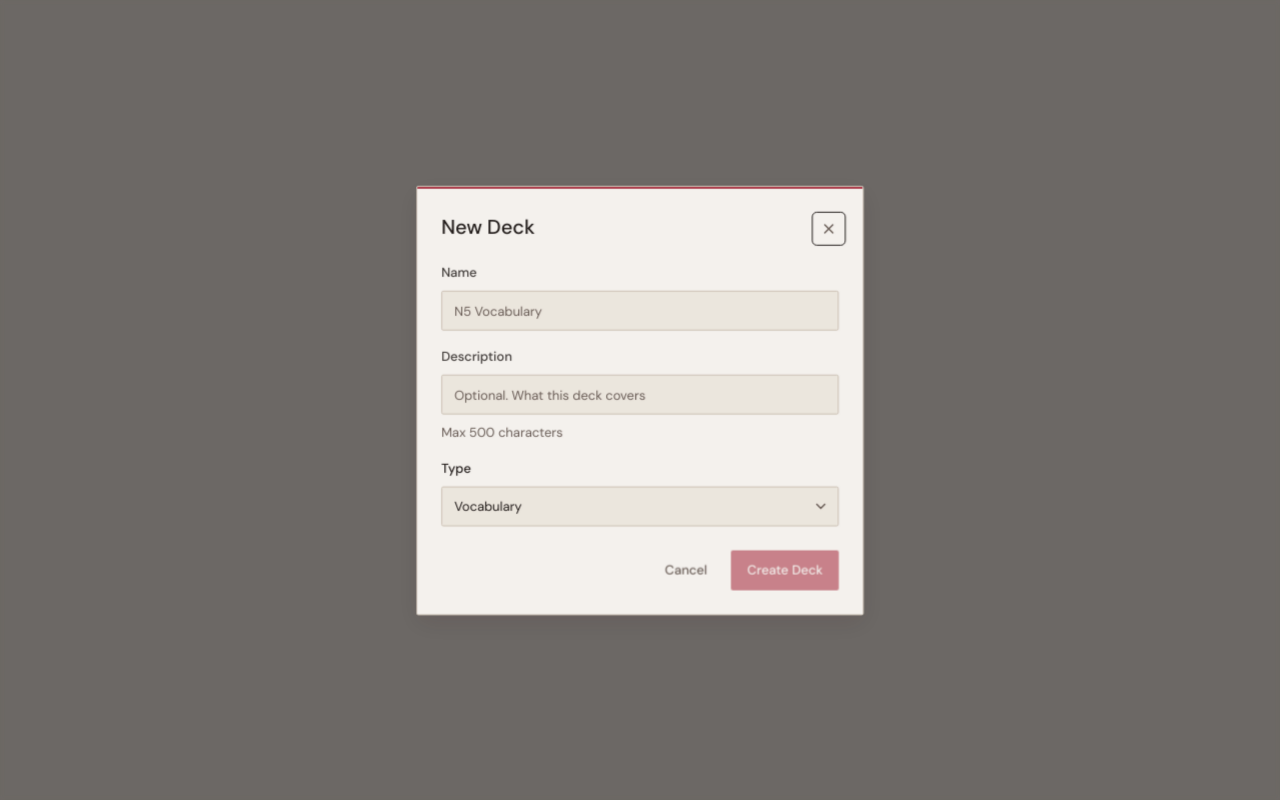
Test case: createDeckDialog › submit › renders a form-level alert when the action rejects
Step 1. Type "Whatever" into the field labelled "Name" → (640, 311), box [441, 291, 839, 331]
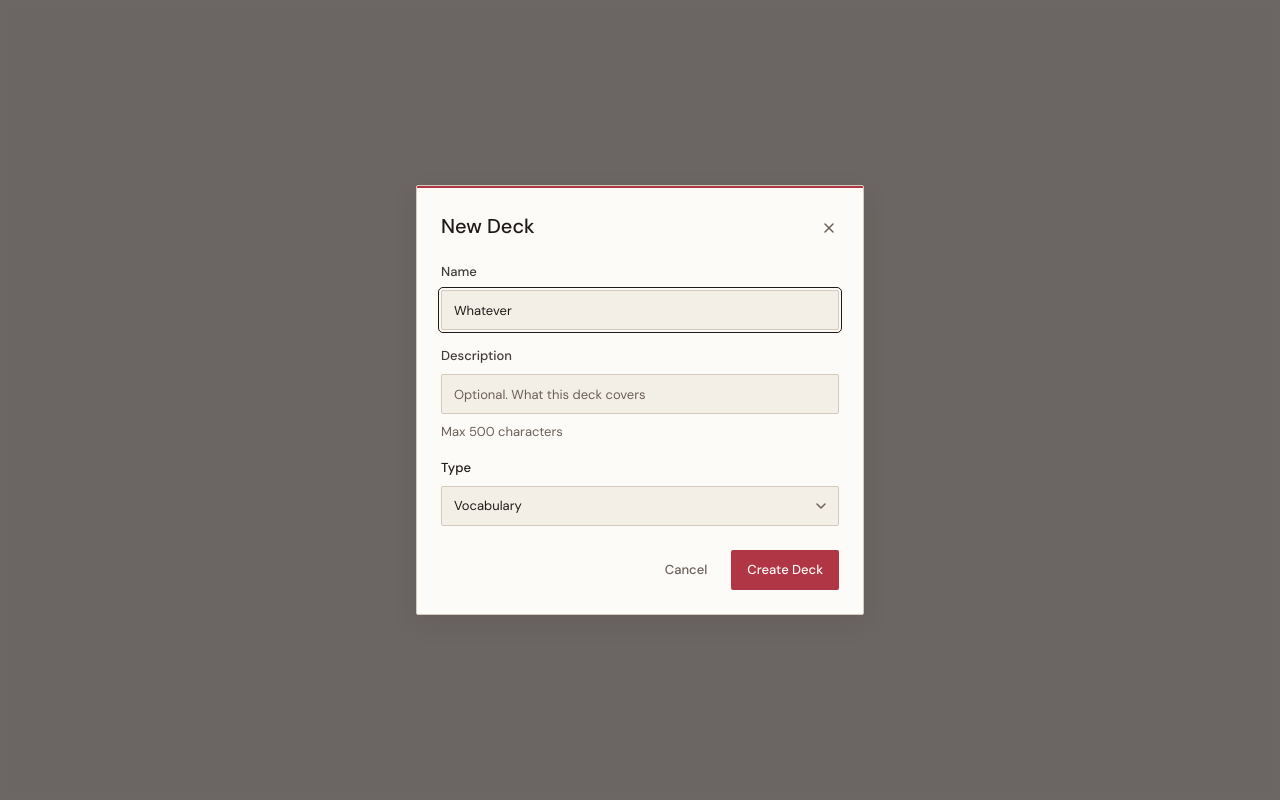
Step 2. Click the button "Create Deck" → click(785, 570), box [731, 550, 839, 590]
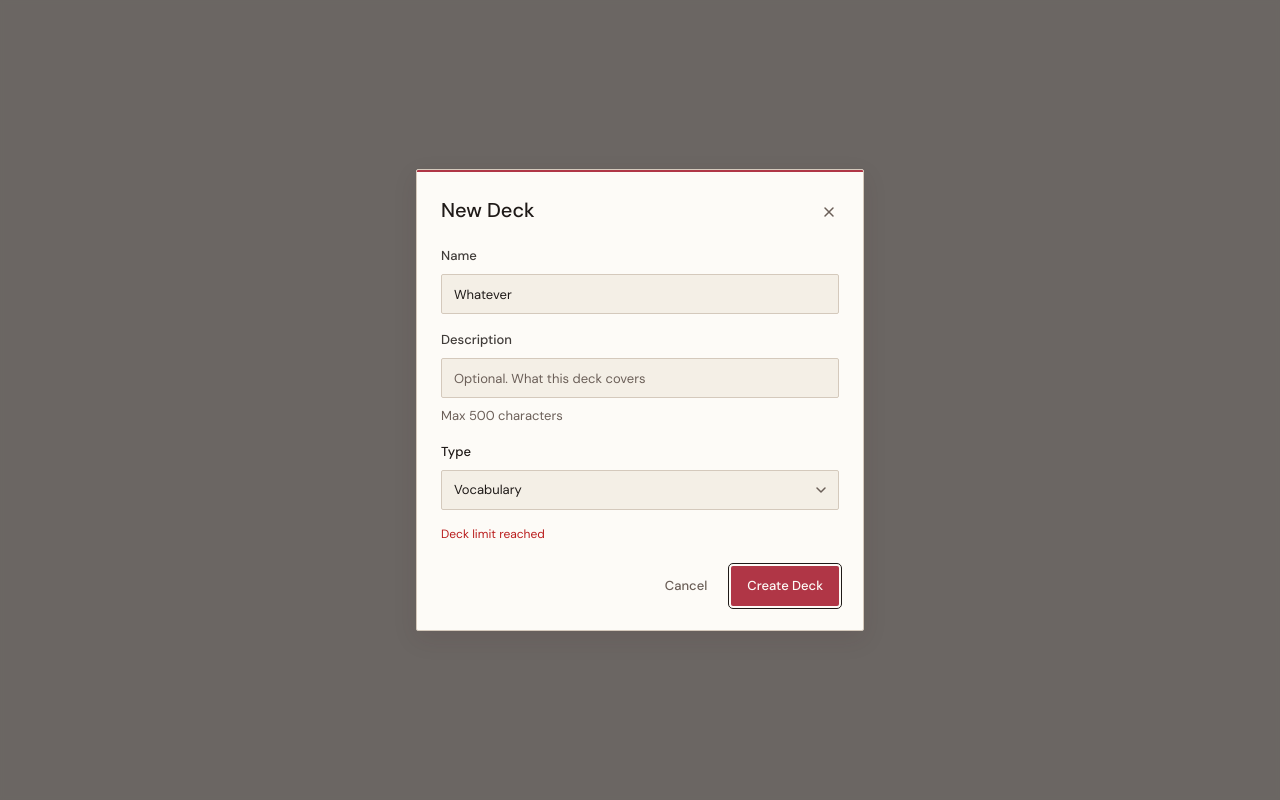
Now the message reads "Deck limit reached", box [441, 526, 545, 542]
